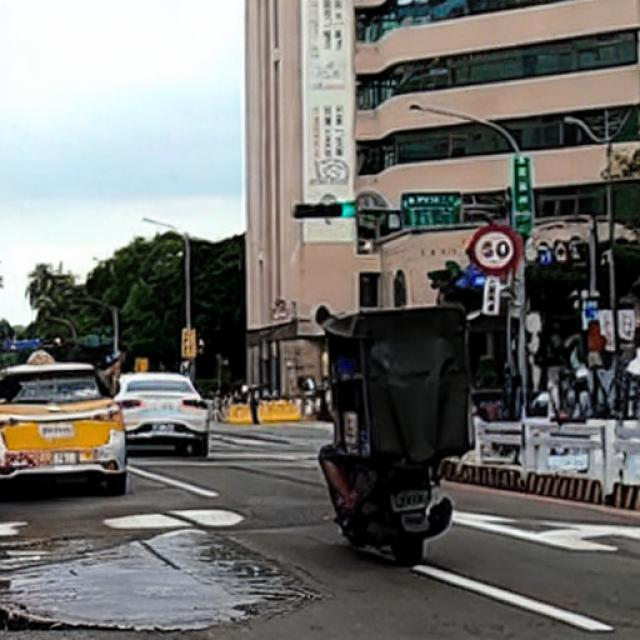puddle: (4, 529, 307, 634)
